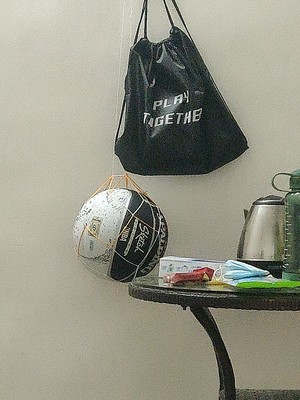ball: (73, 187, 170, 284)
